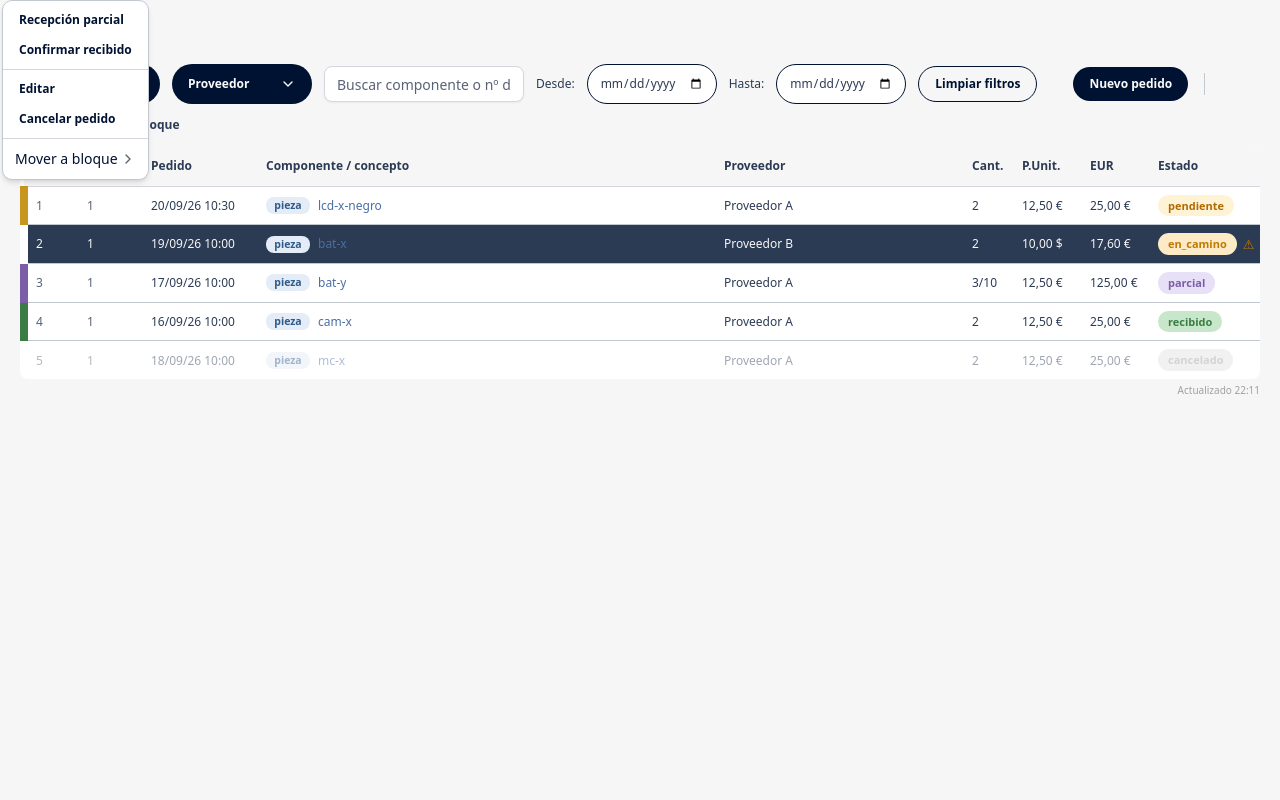
Test case: PedidosPage: menú y acciones (SUPERTECNICO) › "Cancelar pedido": confirmación con sus textos (dos botones que empiezan por "Cancelar") y PATCH
The image size is (1280, 800).
Expected: the button "bat-x" is shown, 318,236 -> 347,253
Click the menu item "Cancelar pedido". click: (67, 118)
box: 19,110 -> 116,127
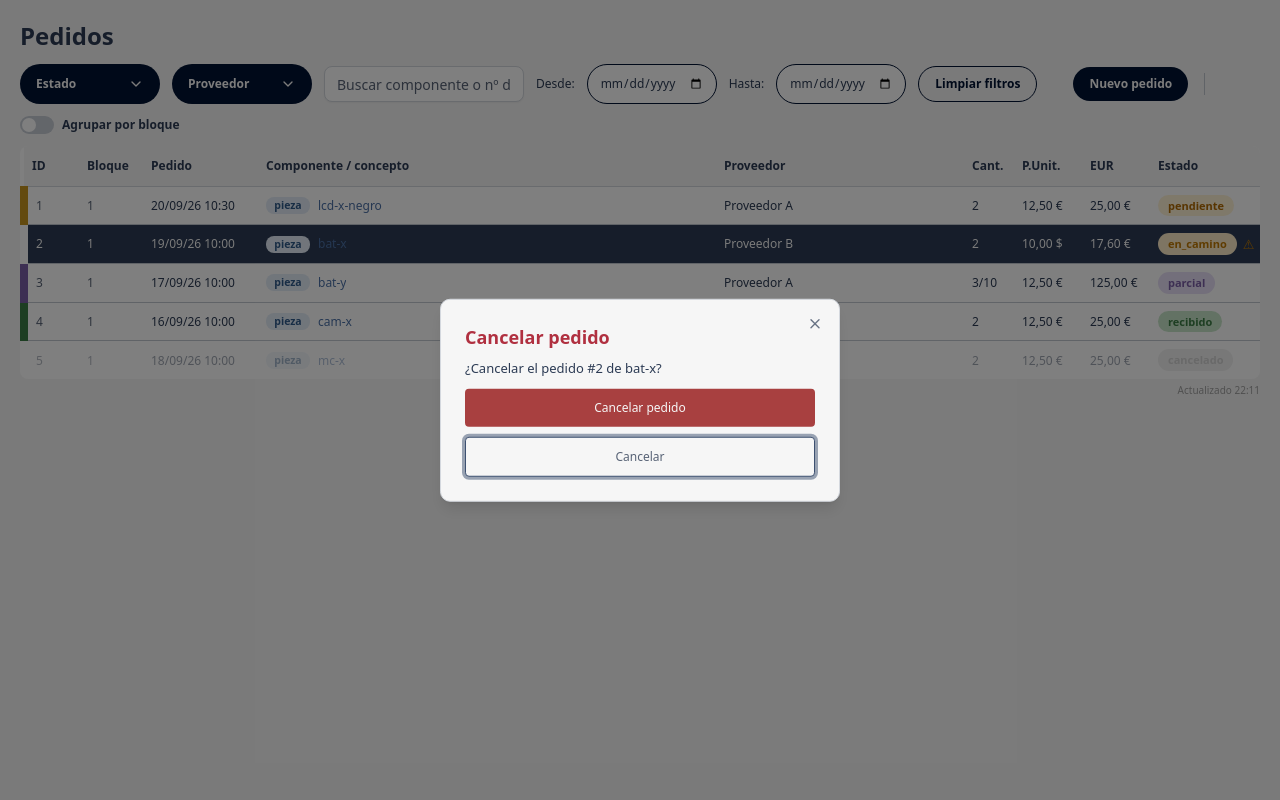
Expected: the text "¿Cancelar el pedido #2 de bat-x?" is shown, 465,359 -> 662,377
Expected: the button "Cancelar" is shown, 465,436 -> 815,476
Click the button "Cancelar pedido". click: (640, 407)
box: 465,388 -> 815,426
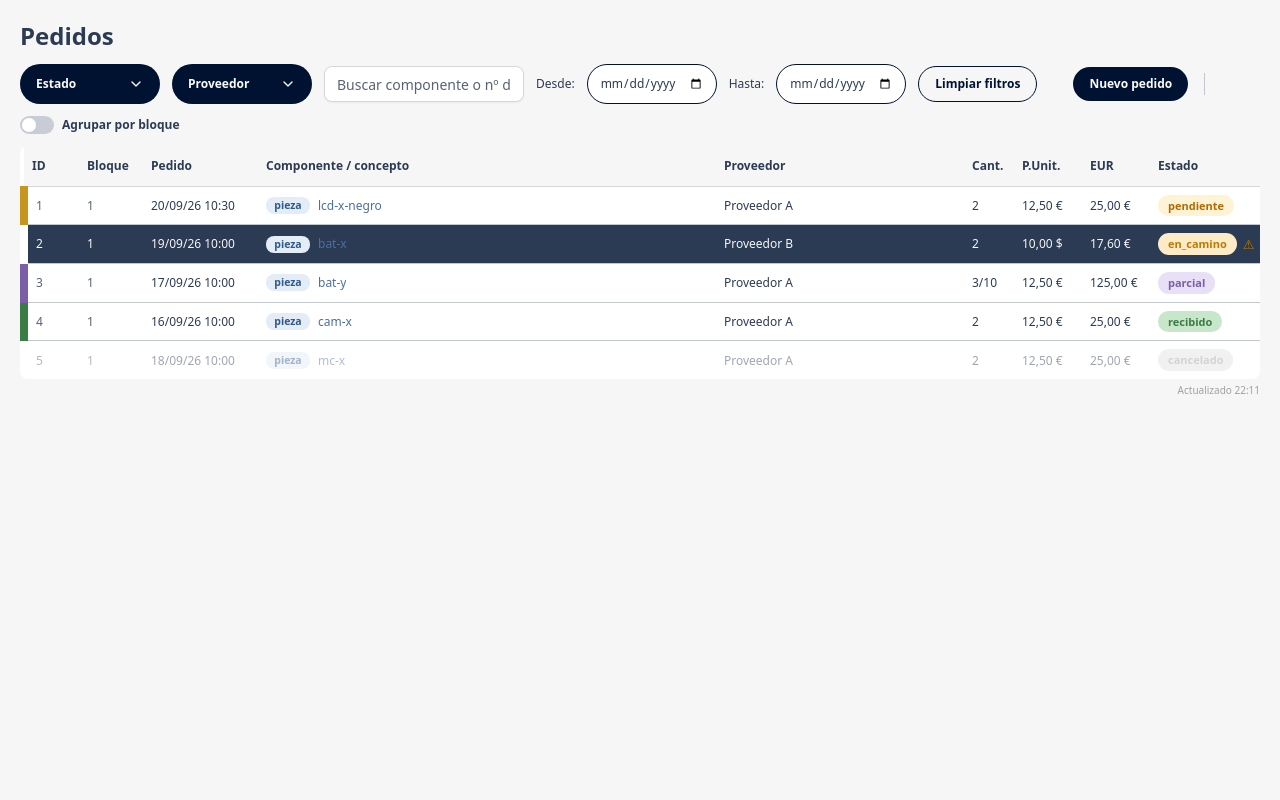
Expected: the dialog is gone
